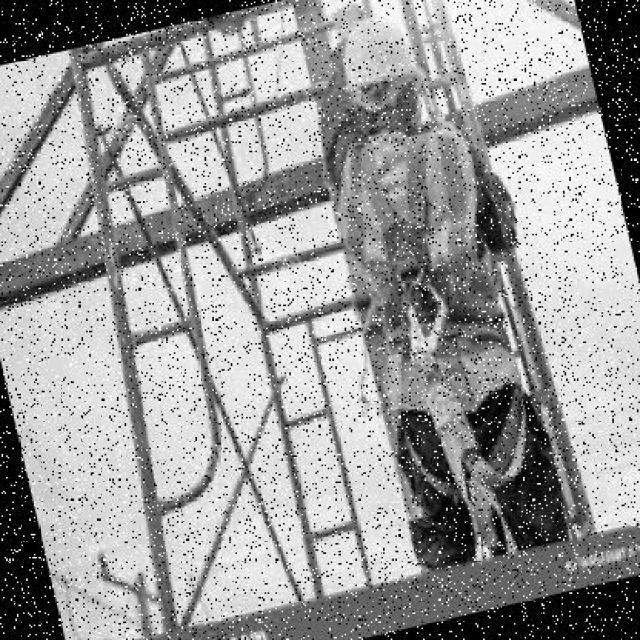Arnes_seguridad: (318, 112, 560, 534)
